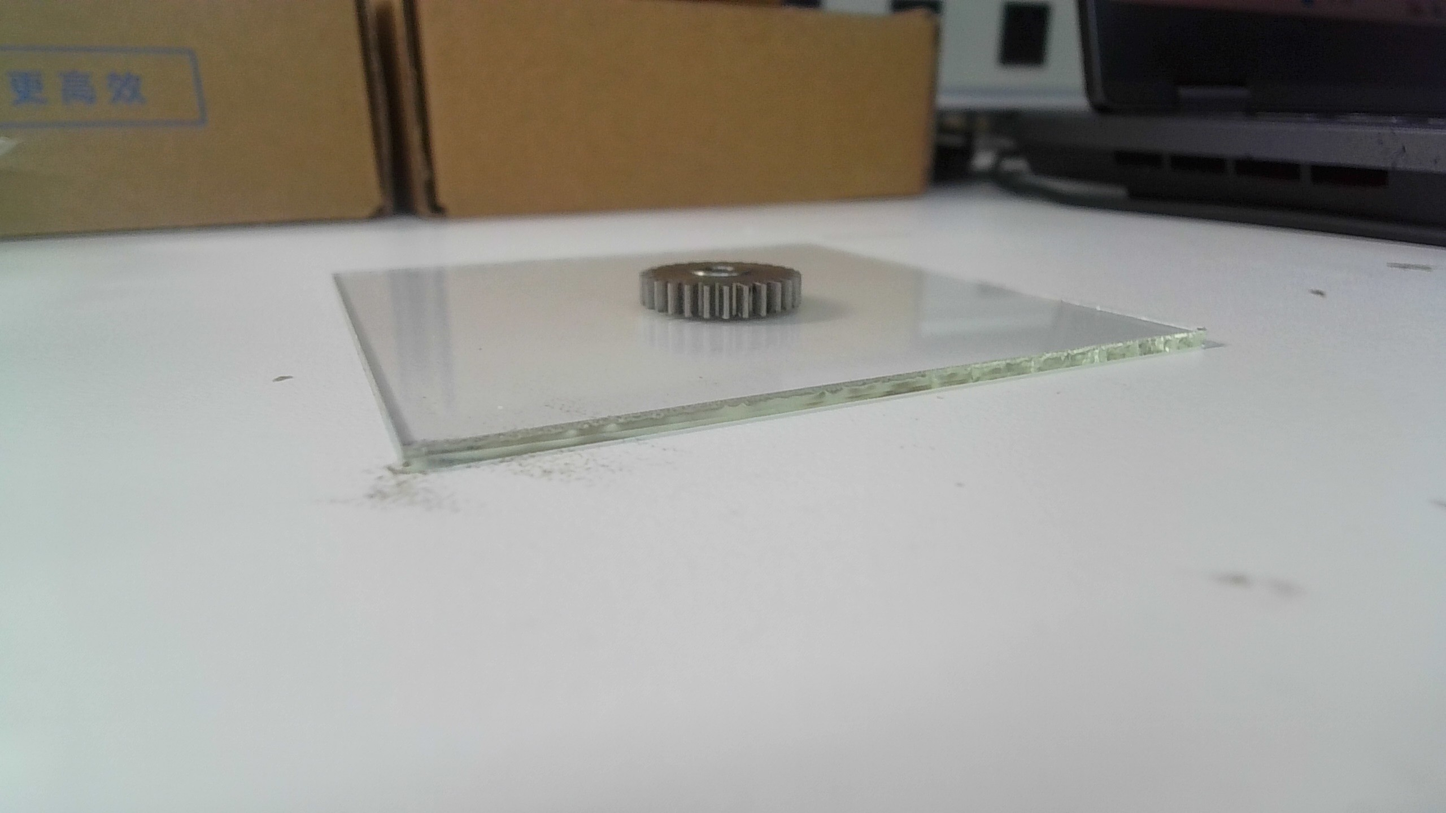gear: (637, 250, 803, 326)
